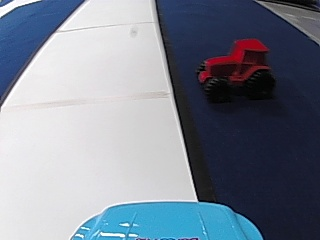tractor: (196, 36, 275, 103)
